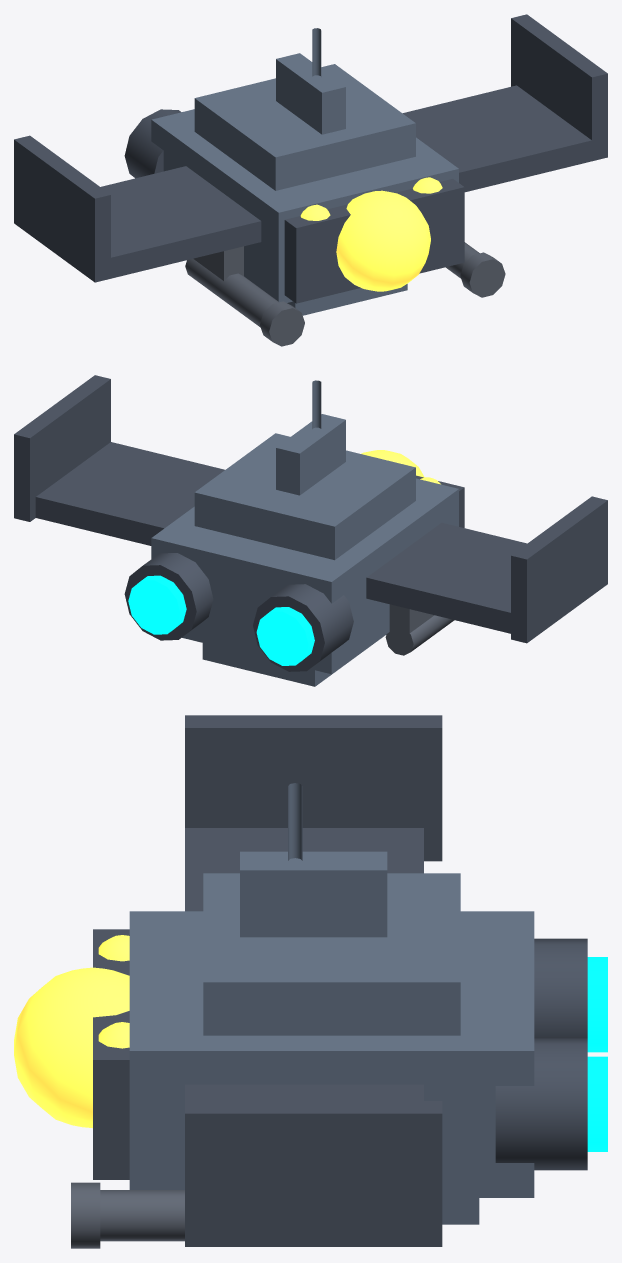
File: security_drone.glb
The picture shows the model from 3 angles, top to bottom: view 1: azimuth 30°, elevation 25°; view 2: azimuth 150°, elevation 25°; view 3: azimuth 270°, elevation 25°; orthographic projection. The views are drawn at different scales.
Parts seen in each view (by area): view 1: SecurityPatrolDrone; view 2: SecurityPatrolDrone; view 3: SecurityPatrolDrone.
Boxes of the visible parts, x1,y1,x2,y2 form: SecurityPatrolDrone: [14, 14, 607, 346]; SecurityPatrolDrone: [14, 375, 607, 686]; SecurityPatrolDrone: [14, 715, 607, 1248].
Size of the model in its own units: 2.56 by 1.19 by 1.61.
